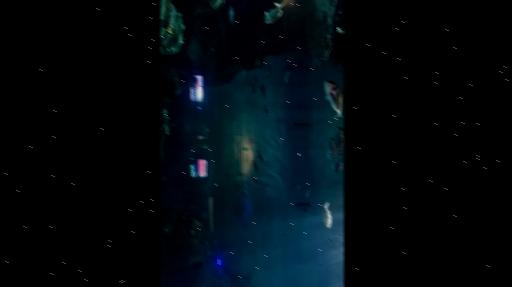Fish: (325, 80, 343, 118), (265, 1, 285, 23), (159, 77, 175, 97), (327, 138, 337, 159), (324, 202, 331, 227), (334, 155, 343, 174), (337, 126, 343, 151), (259, 84, 265, 97), (257, 150, 263, 162), (230, 8, 234, 26), (285, 69, 289, 83), (253, 161, 257, 172), (253, 76, 257, 87), (336, 27, 343, 33), (295, 123, 309, 126), (250, 175, 255, 183), (255, 58, 259, 67), (297, 203, 313, 205), (304, 190, 308, 197), (262, 62, 265, 71), (246, 85, 249, 93), (268, 65, 270, 77), (252, 83, 254, 93), (303, 208, 307, 213), (161, 176, 166, 180), (265, 105, 267, 114), (244, 69, 246, 78), (297, 184, 299, 190)
